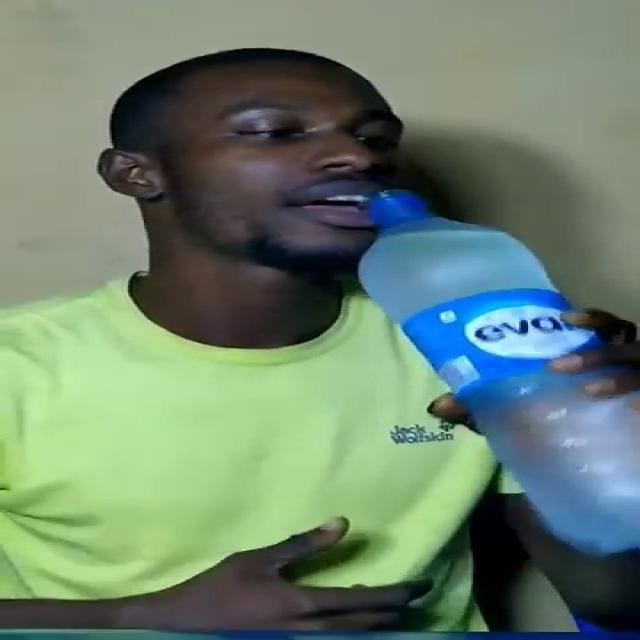Bottle: (360, 189, 638, 556)
Hand: (385, 306, 640, 441)
Mouth: (286, 182, 400, 226)
